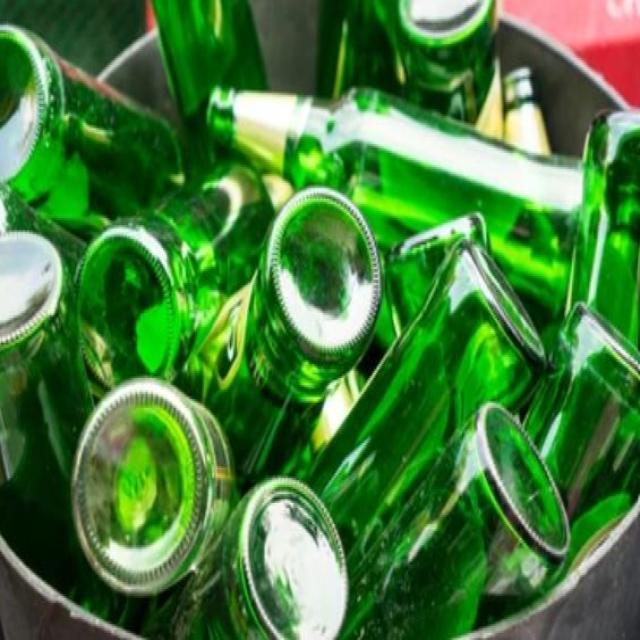electronic: (304, 221, 550, 581), (199, 187, 388, 492), (339, 402, 571, 640), (72, 144, 278, 394), (0, 18, 217, 248), (71, 366, 239, 594), (122, 474, 352, 640)
